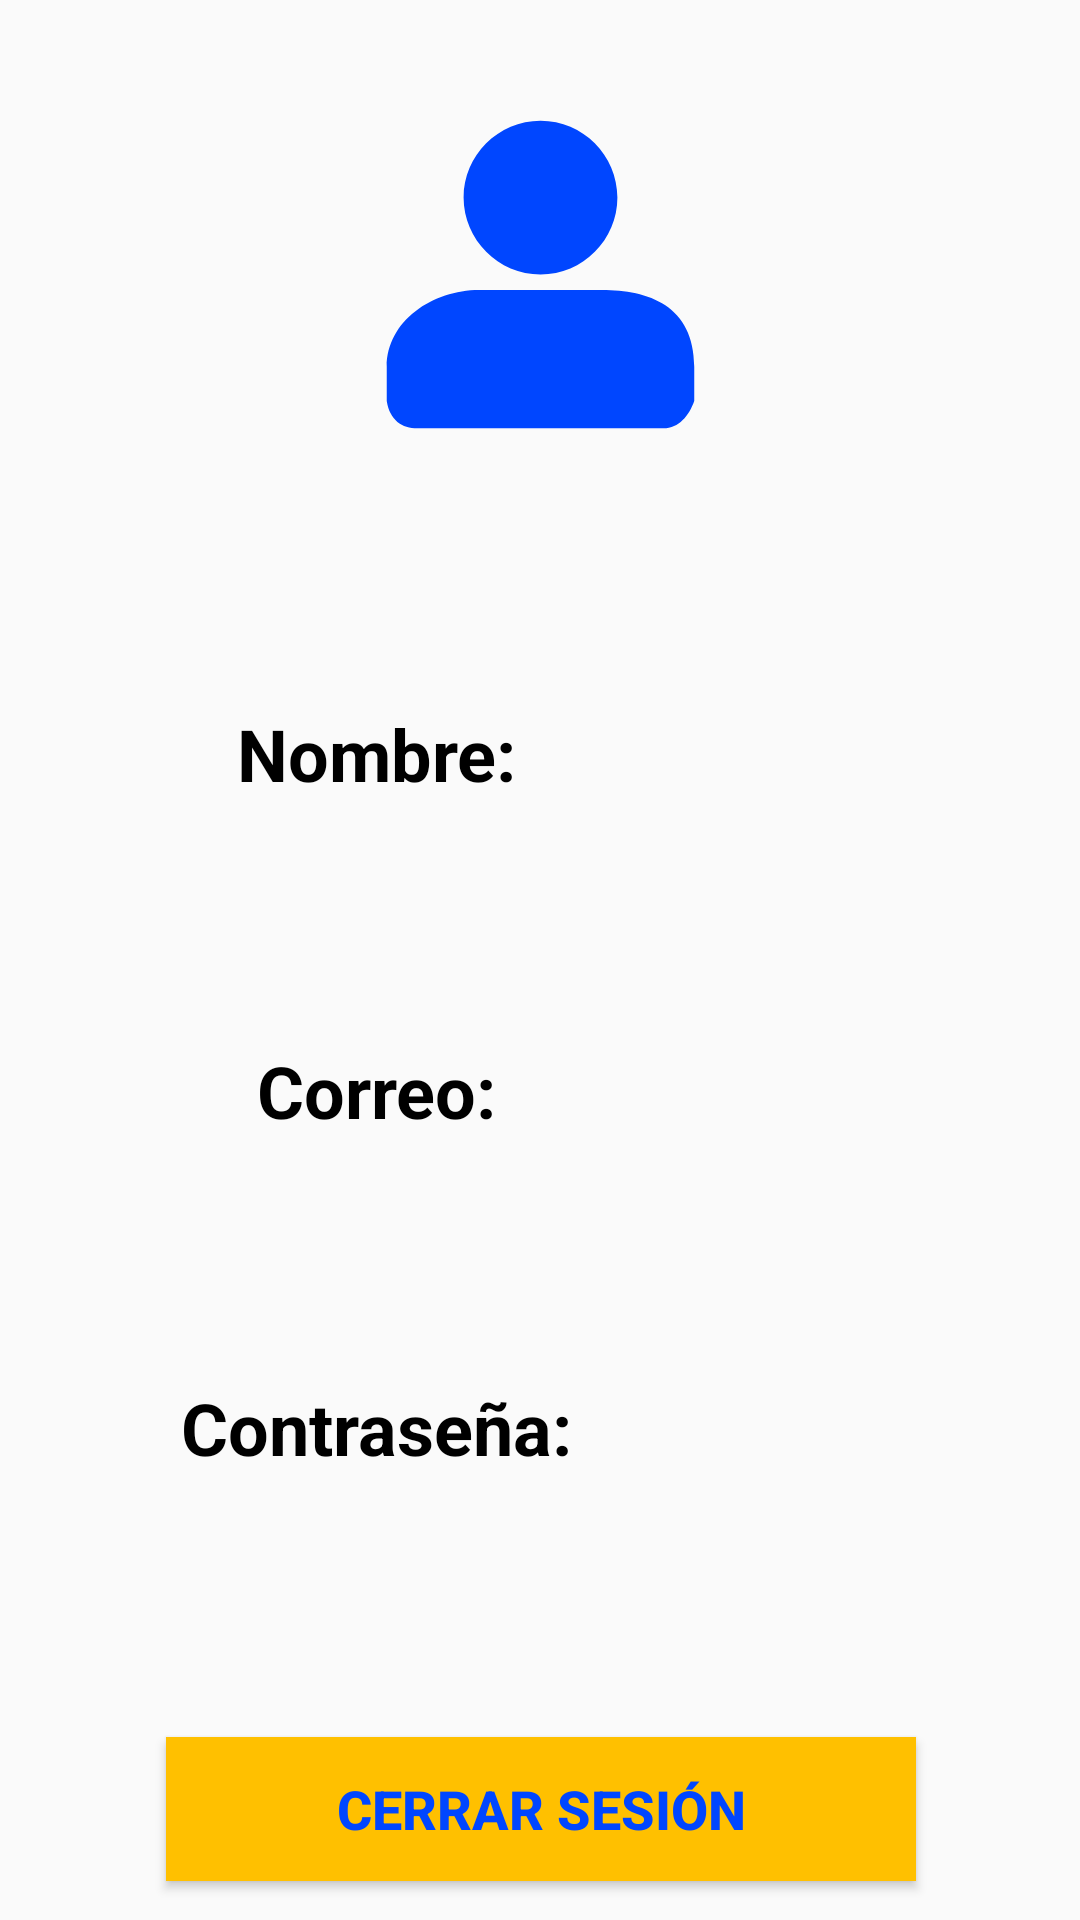

Point at icon controls on the screen. Image size 1080 x 1920, points as (x,y).
perfil: (540,274)
